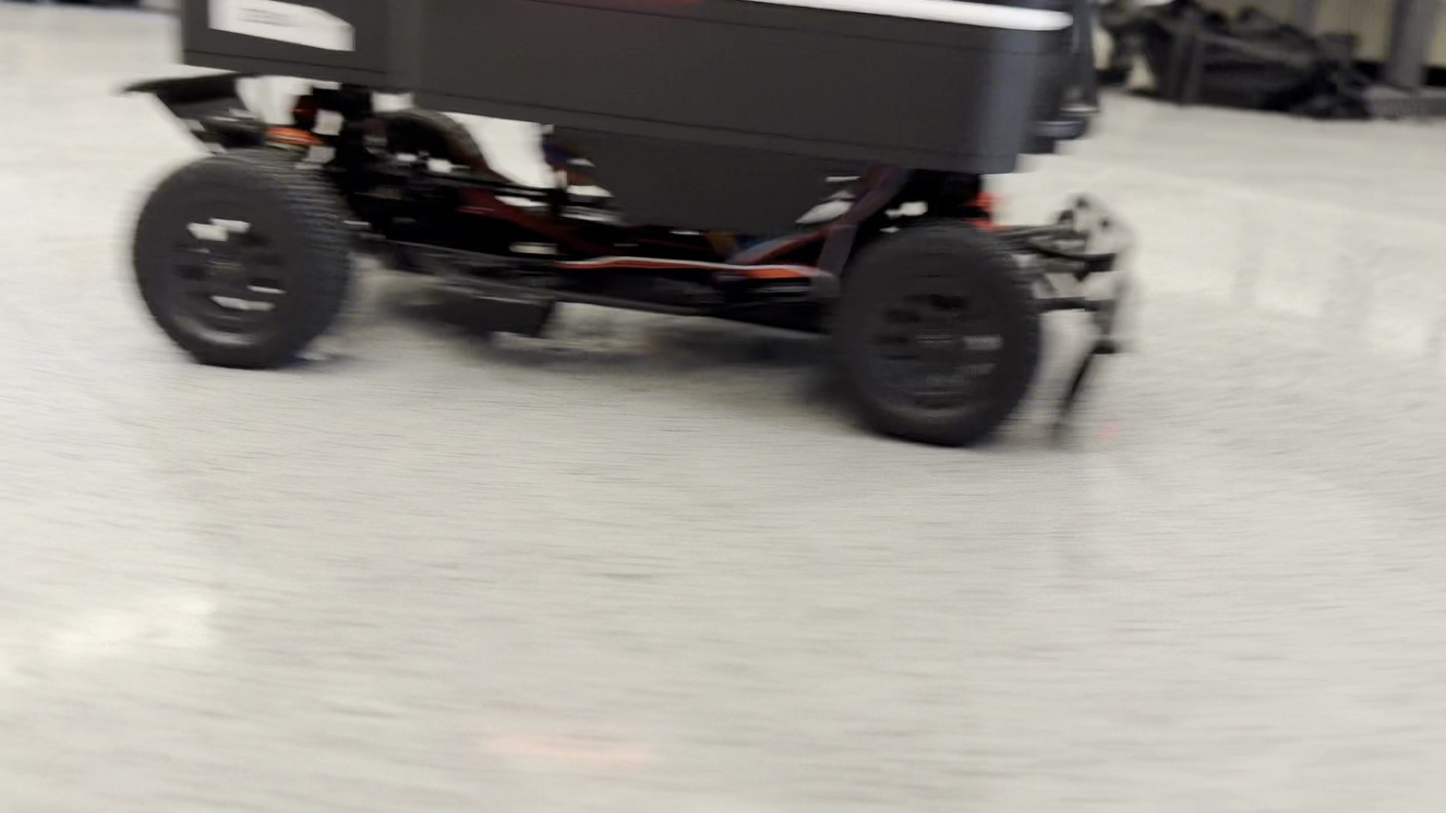racecar: (121, 0, 1157, 464)
